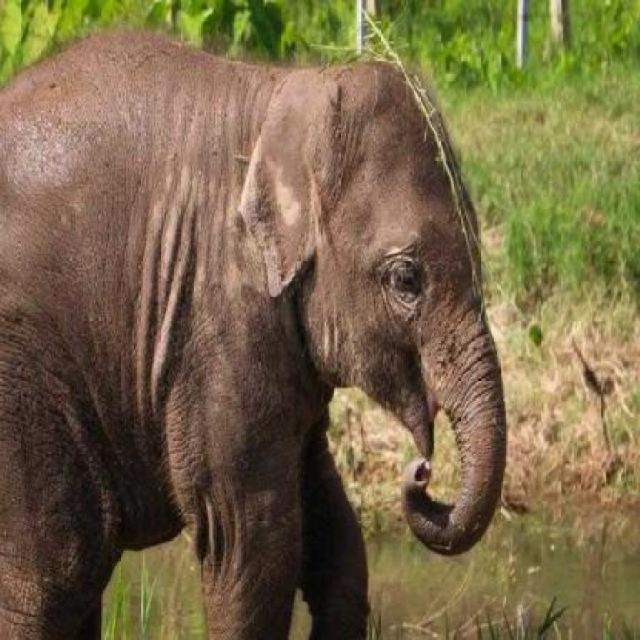Elephant: (0, 35, 517, 636)
